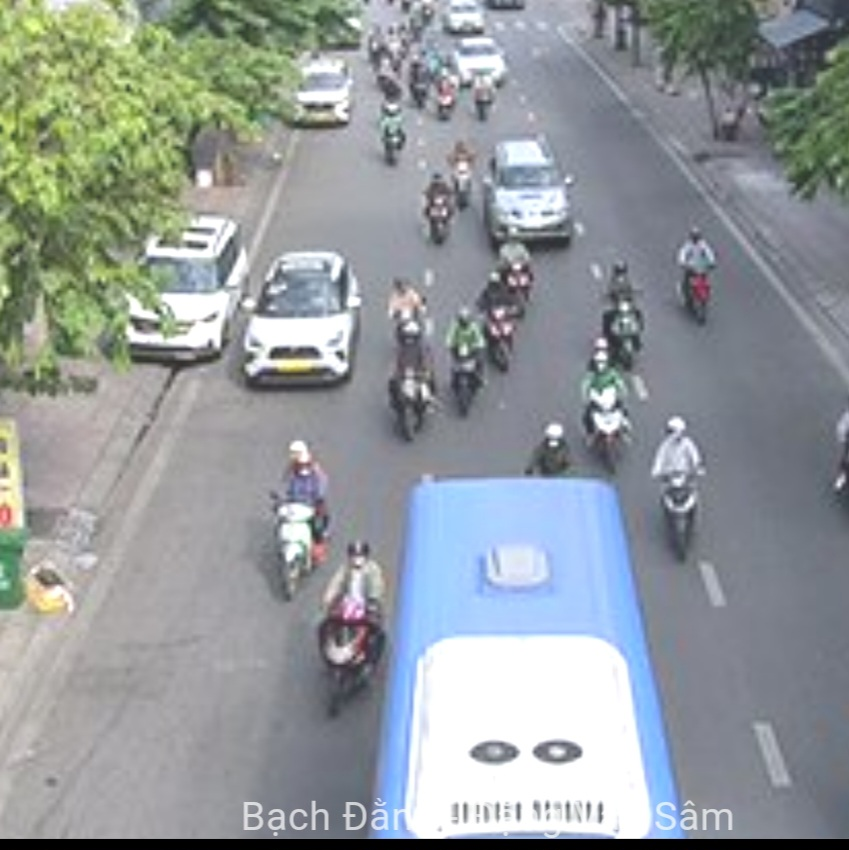car: (122, 212, 245, 360), (250, 250, 356, 385), (485, 141, 575, 242), (289, 56, 352, 125), (453, 39, 508, 85), (445, 1, 486, 33)
